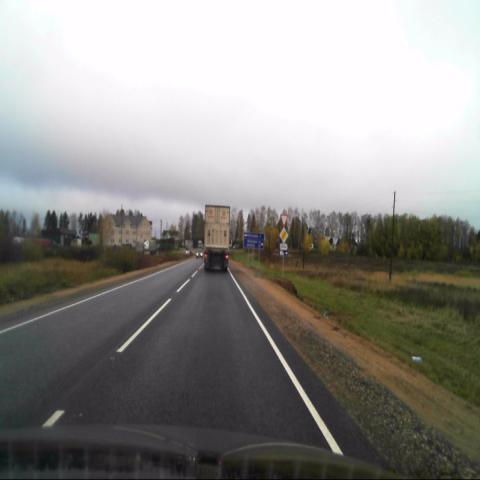2_2: (279, 226, 289, 243)
2_4: (280, 213, 288, 226)
